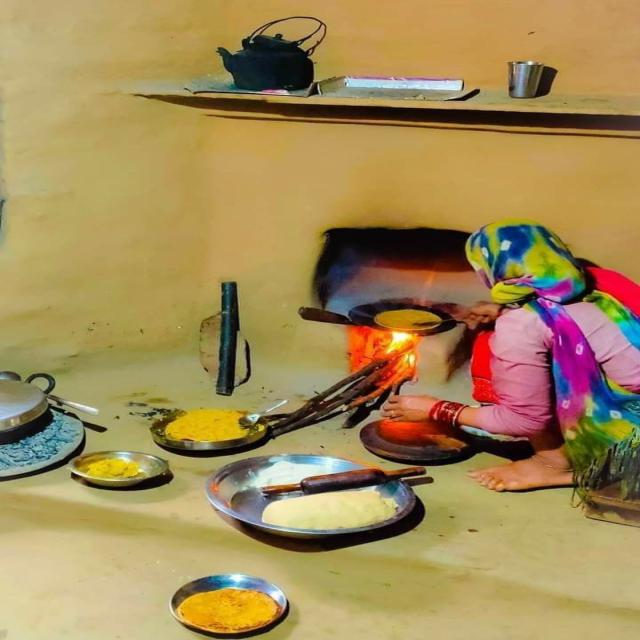fire: (348, 325, 420, 380)
